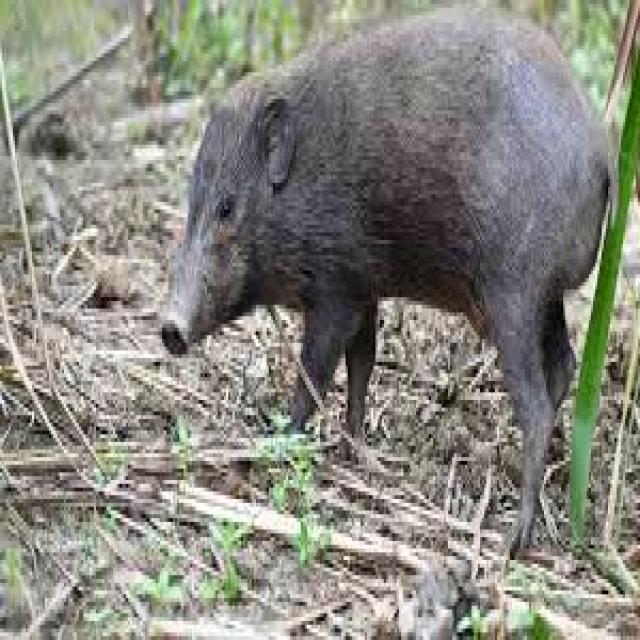pig: (164, 8, 617, 549)
